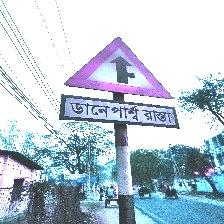Side-road-right: (61, 37, 178, 129)
